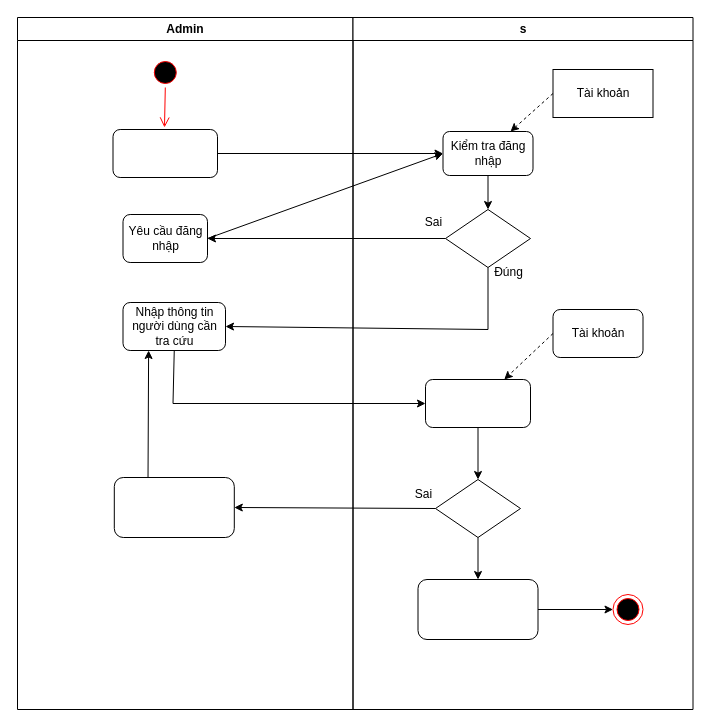
The diagram is 711 pixels wide and 727 high, and some of its shapes have lost their labels. The shapes that lost their labels are listed below. From the top down, each one's centre as x and y in pixels, then its label:
At point 165,153: "Chọn chức năng tra cứu thông tin tài khoản".
At point 477,403: "Kiểm tra thông tin cần tra cứu".
At point 173,507: "Báo lỗi và yêu cầu chỉnh sửa thông tin".
At point 477,609: "Hiển thị thông tin tài khoản cần tra cứu".
